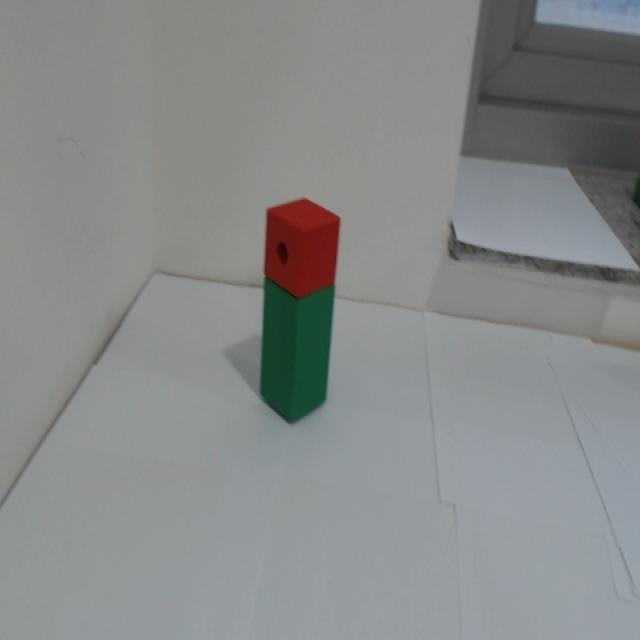cube: (235, 200, 350, 298)
